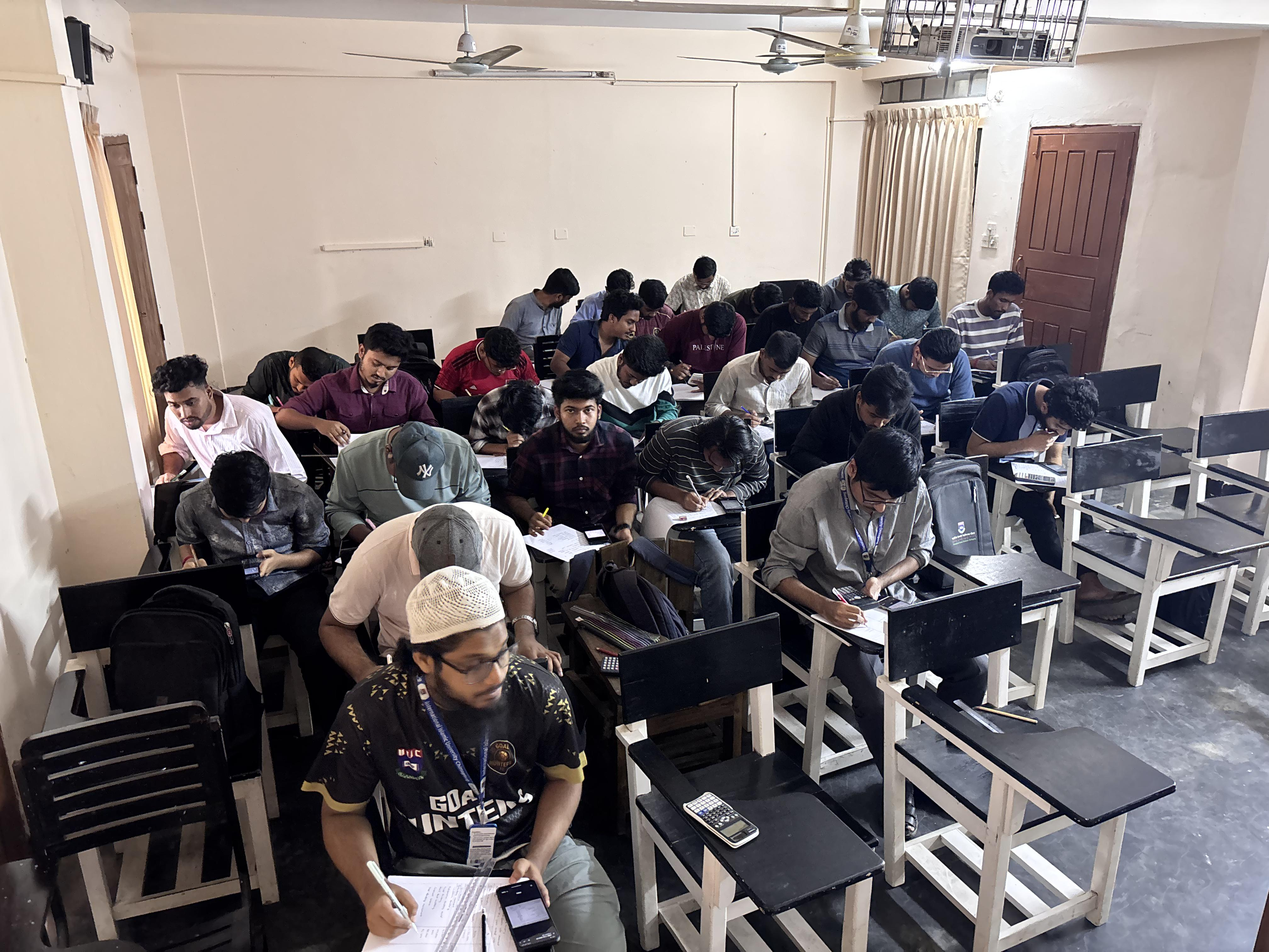copying: (496, 259, 603, 336), (572, 256, 651, 360)
hidden_communication: (156, 352, 278, 463)
no_cheating: (338, 415, 501, 510), (294, 341, 420, 452), (722, 324, 826, 428), (437, 325, 544, 407), (817, 380, 930, 447), (663, 300, 751, 383), (880, 327, 974, 404), (966, 281, 1042, 374), (825, 278, 894, 375), (219, 324, 323, 388), (600, 336, 683, 412), (669, 243, 742, 304), (779, 276, 828, 324), (826, 256, 871, 291)
using_phone: (345, 591, 586, 952), (787, 445, 933, 650), (518, 376, 644, 578), (165, 456, 302, 601), (979, 376, 1111, 500), (672, 409, 778, 544)
